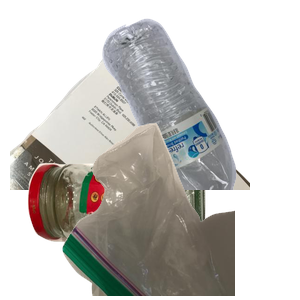glass: (25, 155, 227, 300)
paper: (10, 46, 250, 226)
plastic: (100, 16, 300, 196)
trash: (60, 120, 300, 300)
